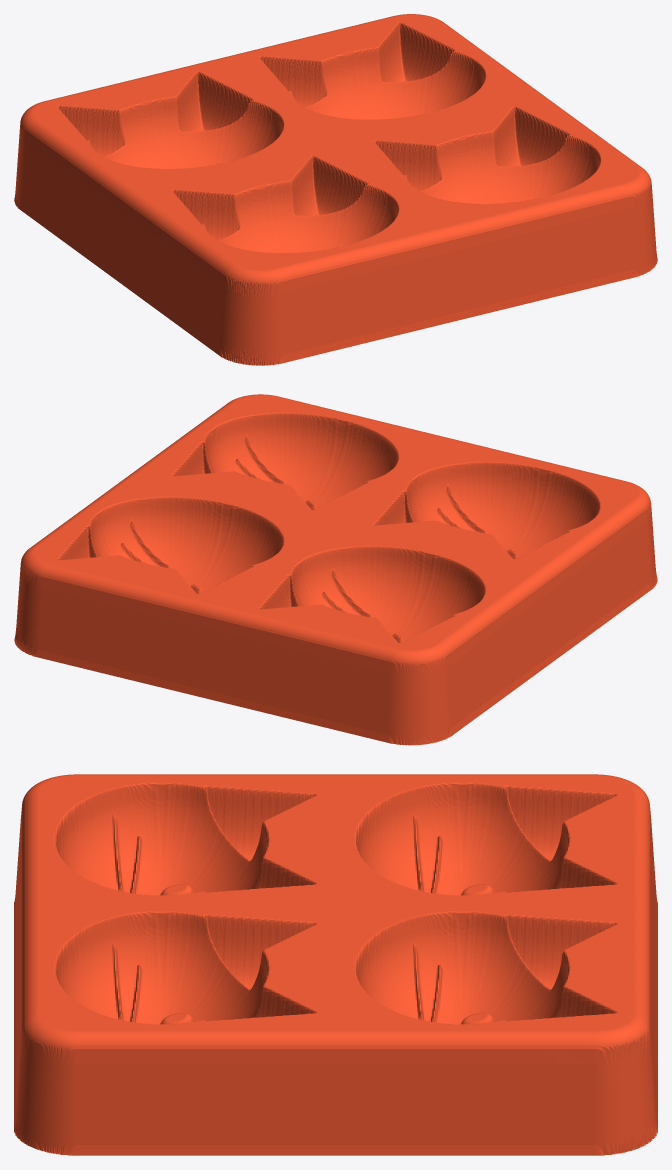
Rendered from mold.glb.
3 renders of one model, top to bottom at view 1: azimuth 30°, elevation 25°; view 2: azimuth 150°, elevation 25°; view 3: azimuth 270°, elevation 25°, orthographic. The views are drawn at different scales.
Visible parts, largest first — view 1: geometry_0; view 2: geometry_0; view 3: geometry_0.
Boxes of the visible parts, x1,y1,x2,y2 form: geometry_0: [14, 14, 657, 365]; geometry_0: [14, 394, 657, 745]; geometry_0: [14, 774, 657, 1155].
Bounding box in the file's own units: 0.0942 × 0.0182 × 0.093.
